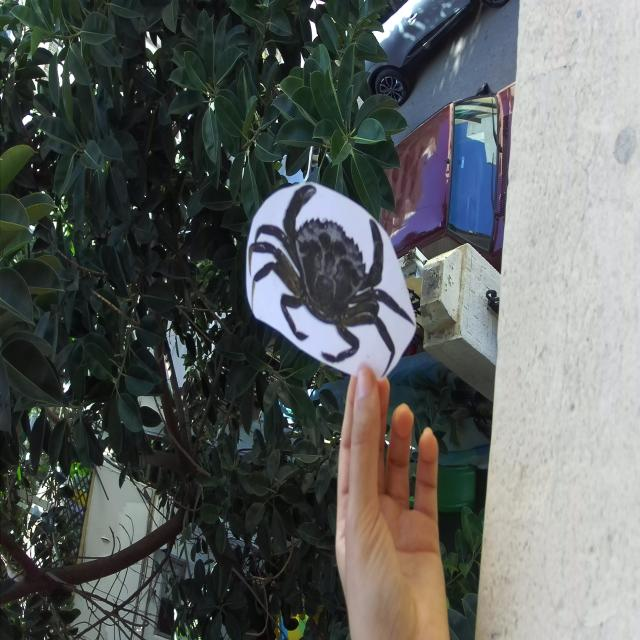European_Green_Crab: (237, 150, 430, 410)
